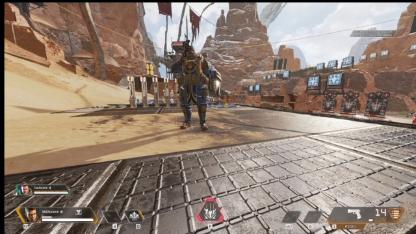Target: (176, 46, 210, 130)
